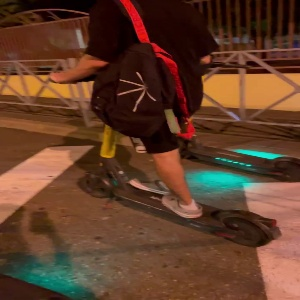human on a scooter: (42, 1, 283, 251)
